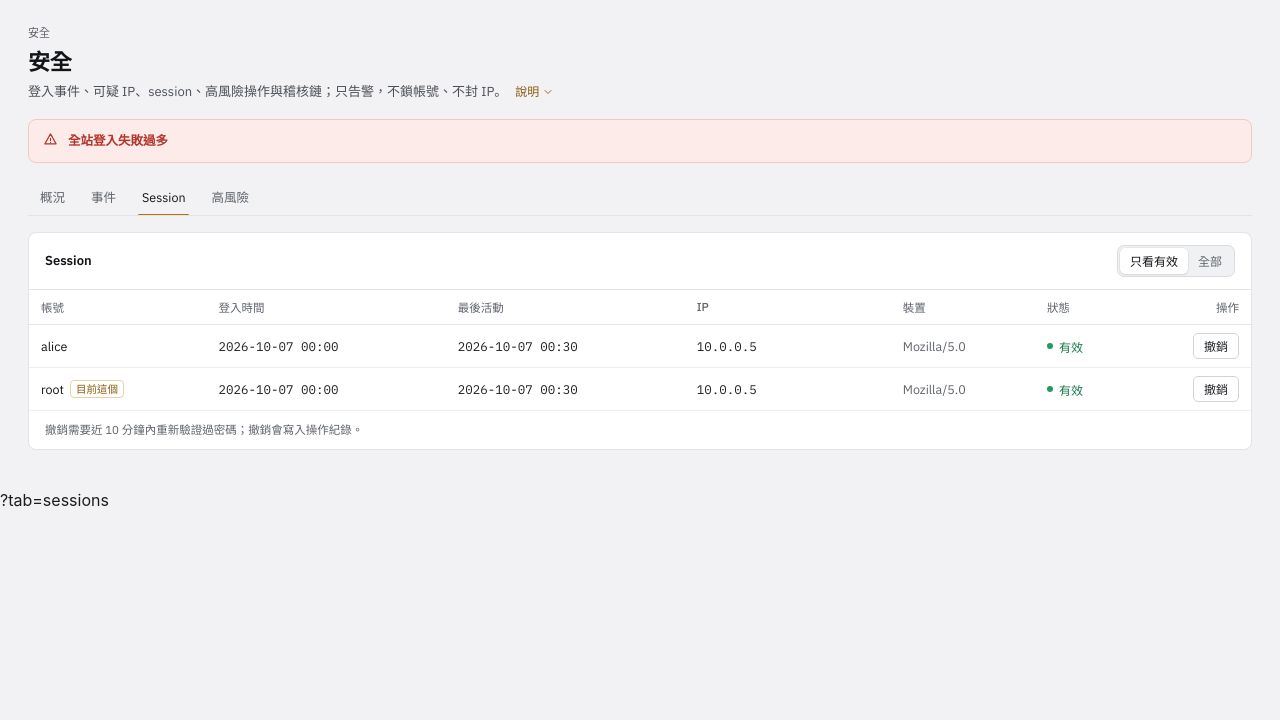
Scenario: 撤銷：確認框按取消、或重新驗證按取消，都不送出
Expected: the text "alice" is shown, [41,338,67,354]
Click the button "撤銷" in the row of "alice": (1216, 346) [1193,333,1239,359]
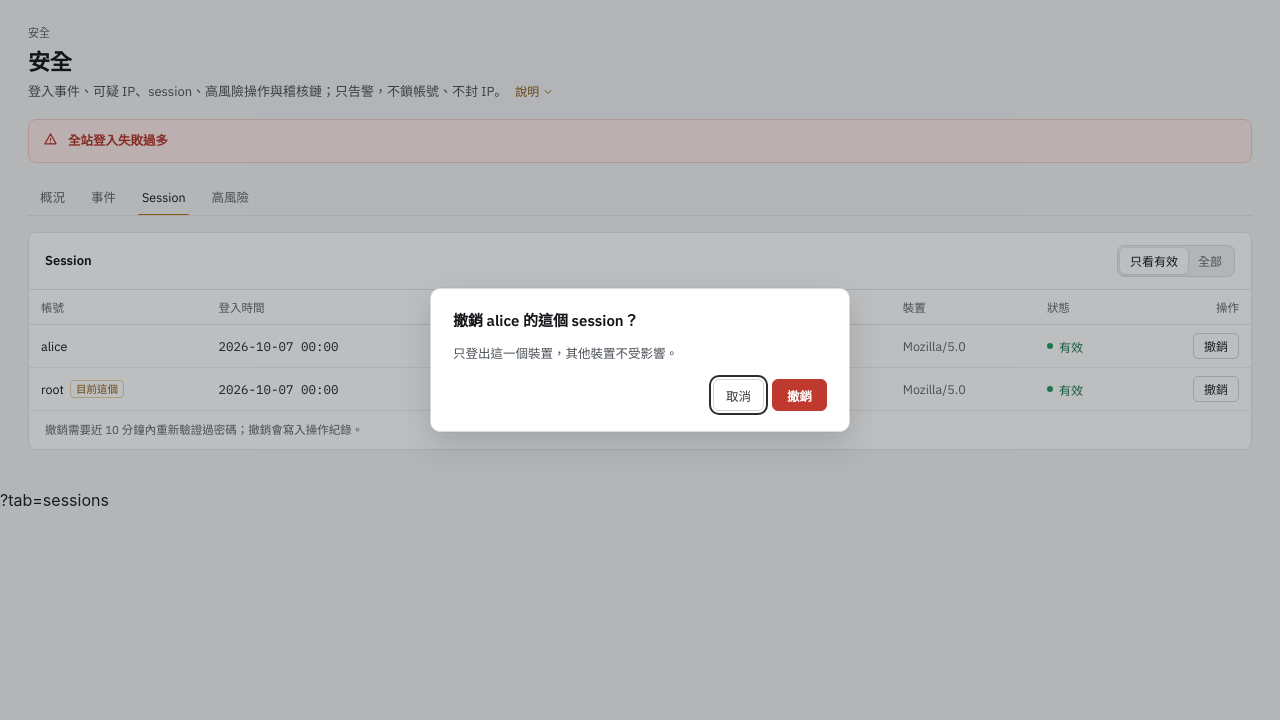
Click the button "取消": (738, 395) [713,379,764,411]
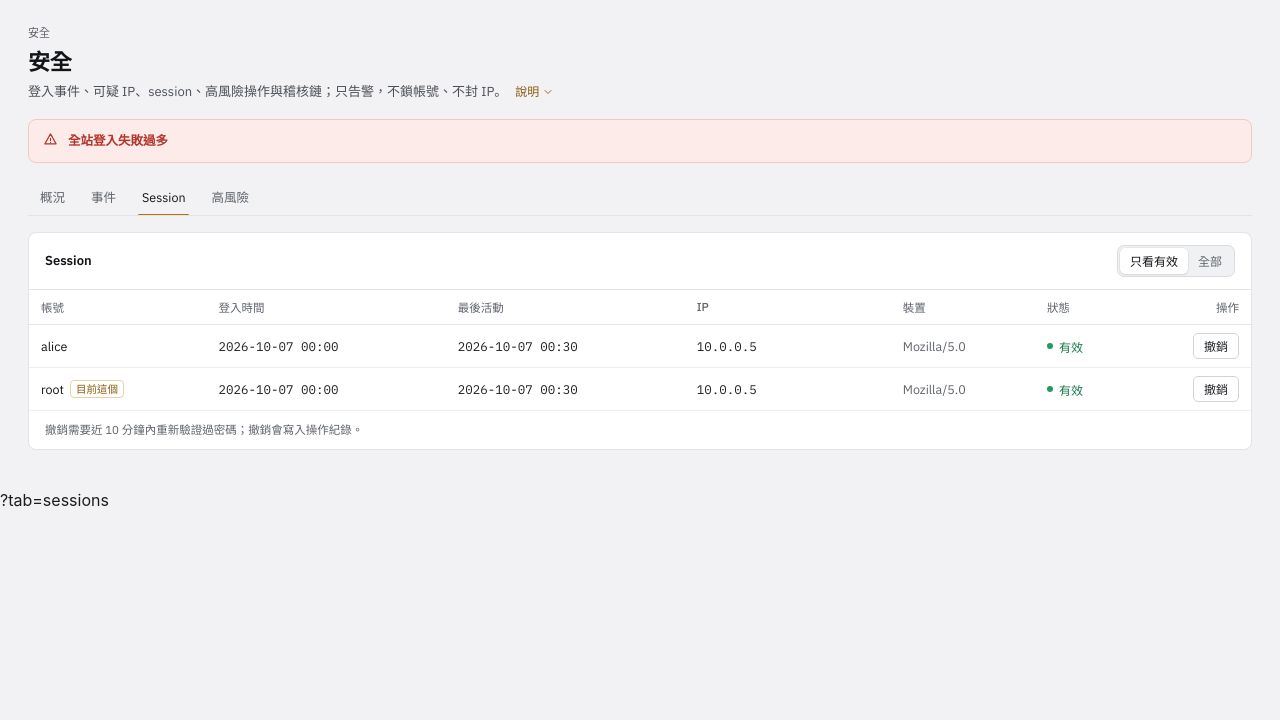
Now the dialog is gone
Click the button "撤銷" in the row of "alice": (1216, 346) [1193,333,1239,359]
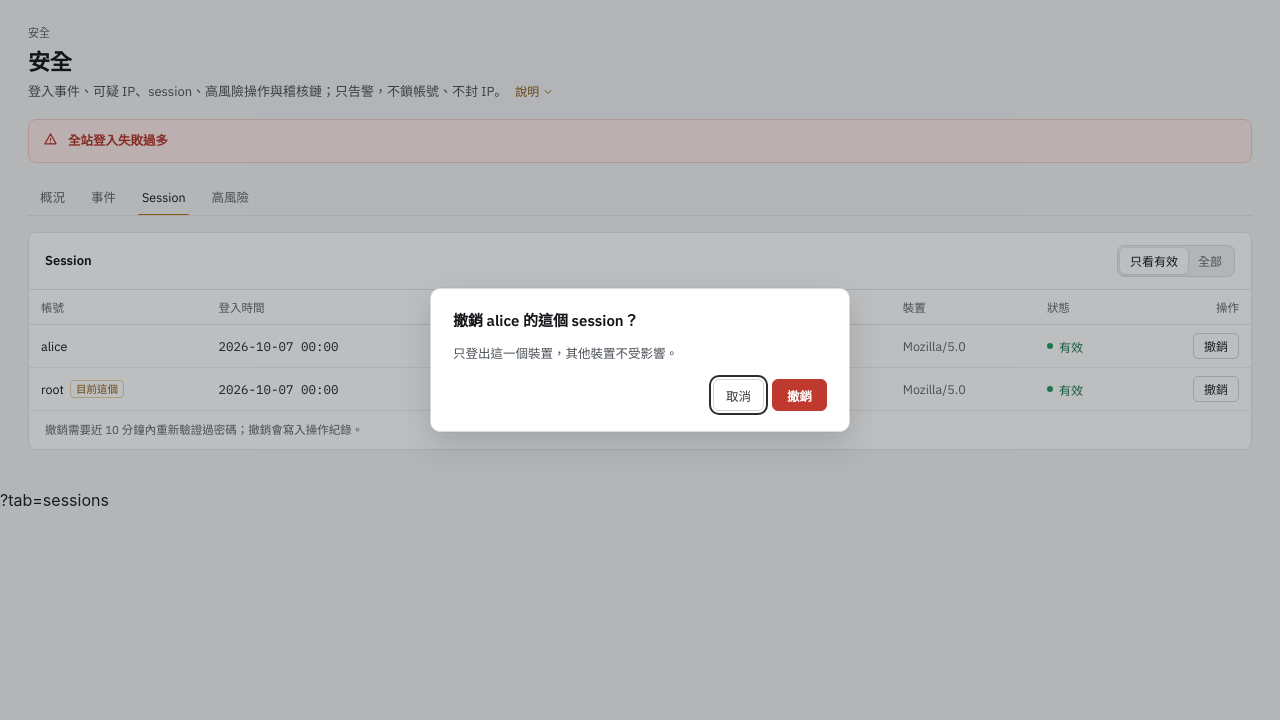
Click the button "撤銷": (800, 395) [772,379,827,411]
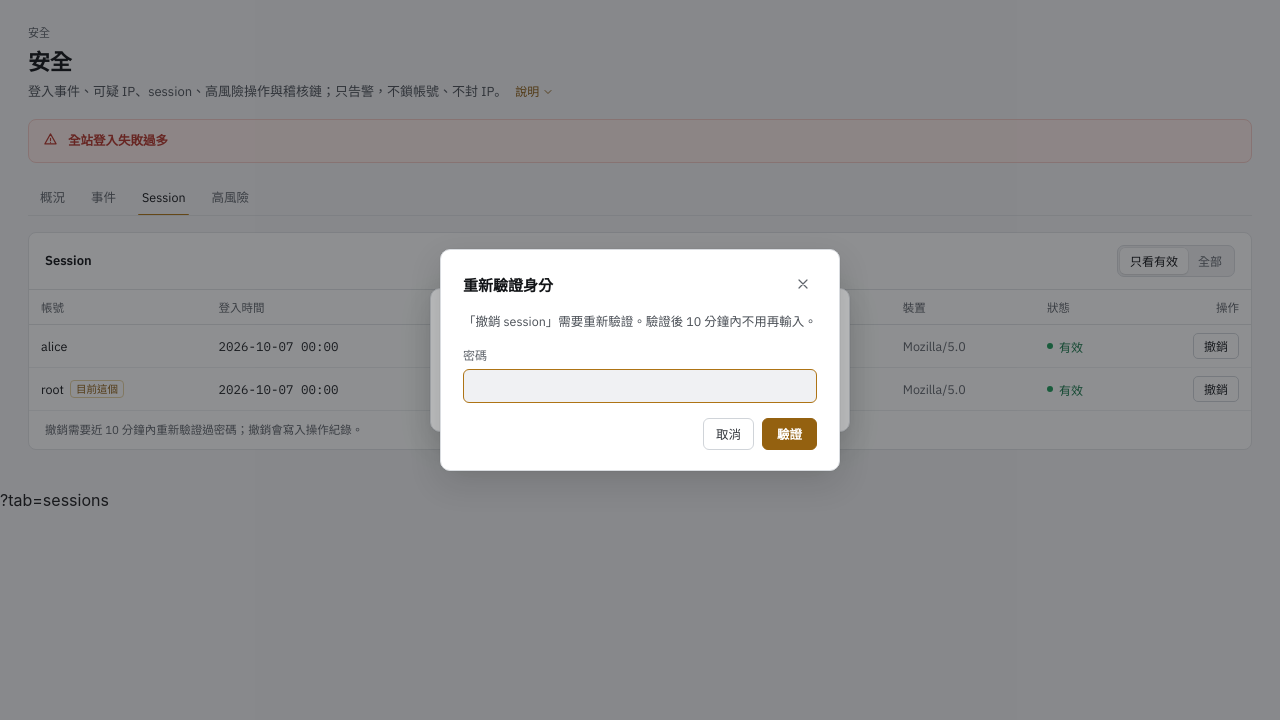
Click the button "取消": (728, 434) [703,418,754,450]
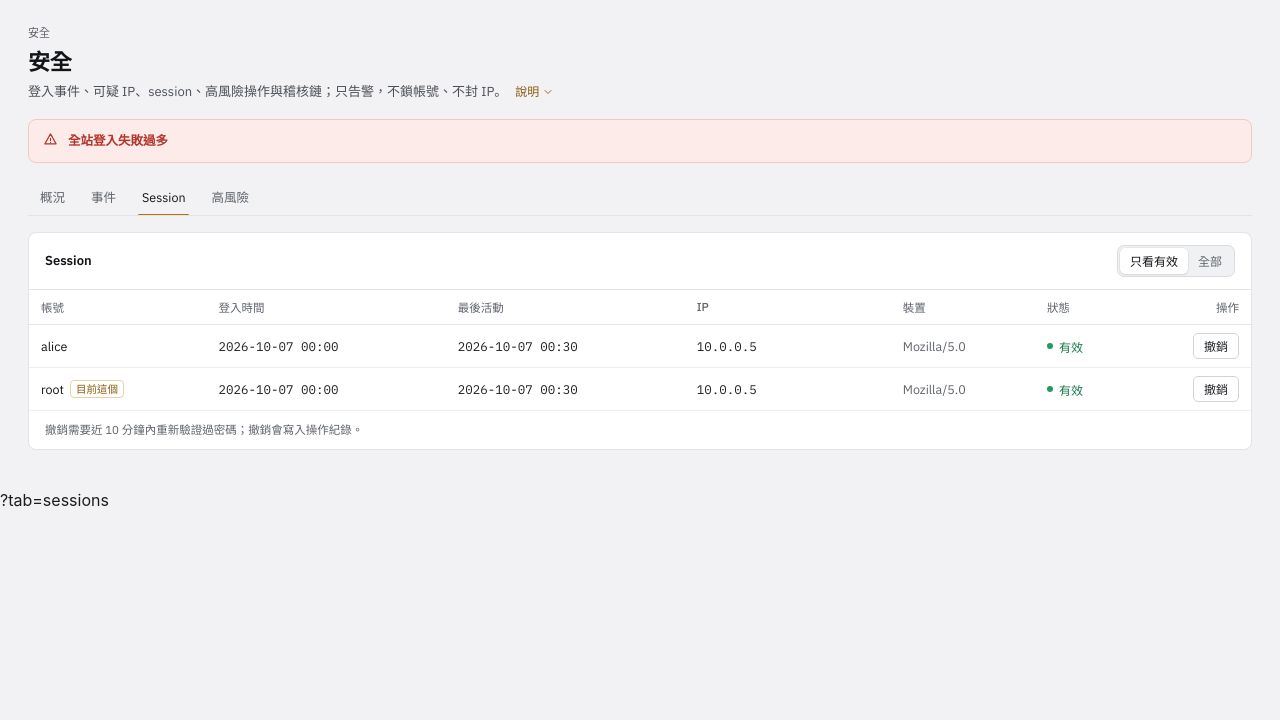
Now the dialog is gone
